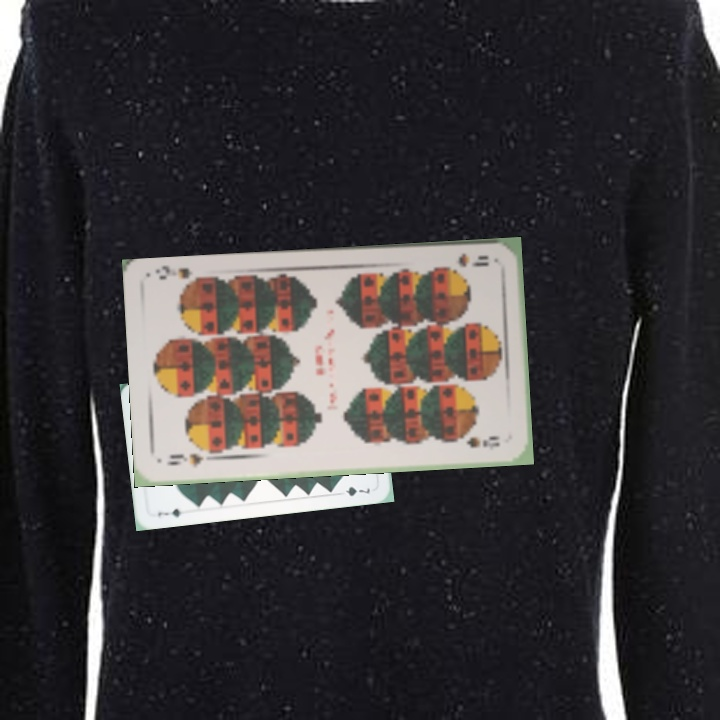G7: (154, 505, 190, 519)
S9: (437, 249, 491, 274), (163, 449, 207, 470)
